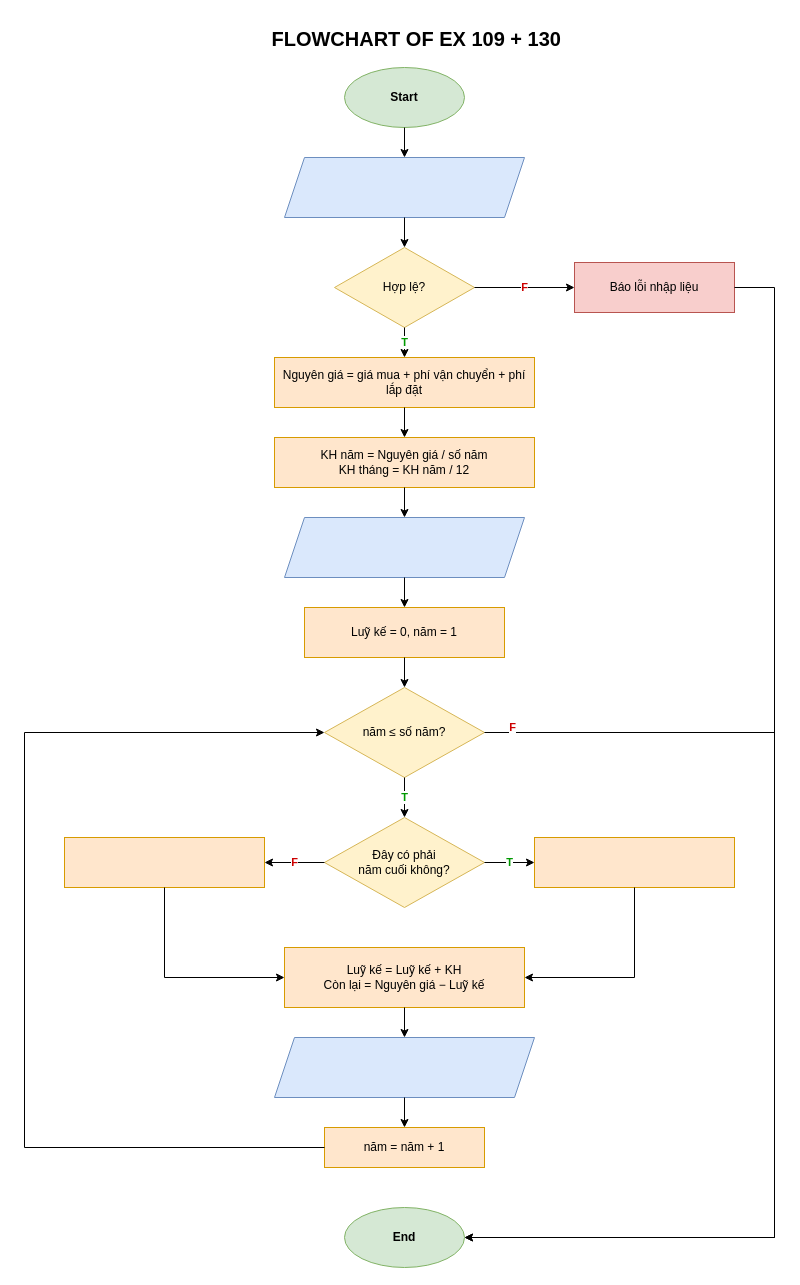
The diagram is 800 pixels wide and 1285 high, and some of its shapes have lost their labels. The shapes that lost their labels are listed below. From the top down, each one's centre as x and y in pixels, then its label:
At (x=404, y=187): "Nhập giá mua, phí vận chuyển, phí lắp đặt, số năm".
At (x=404, y=547): "Hiển thị Nguyên giá, KH năm, KH tháng".
At (x=164, y=862): "KH = KH năm".
At (x=634, y=862): "KH = Nguyên giá − Luỹ kế".
At (x=404, y=1067): "Hiển thị giá trị còn lại sau khấu hao của năm này".
